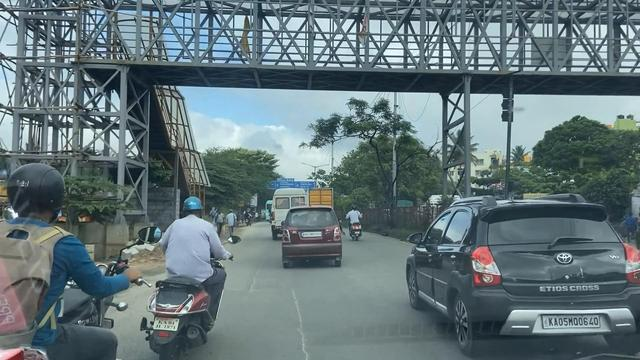LMV: (281, 209, 339, 265), (346, 202, 362, 240)
RoadDamages: (285, 283, 311, 360), (250, 263, 272, 298)
